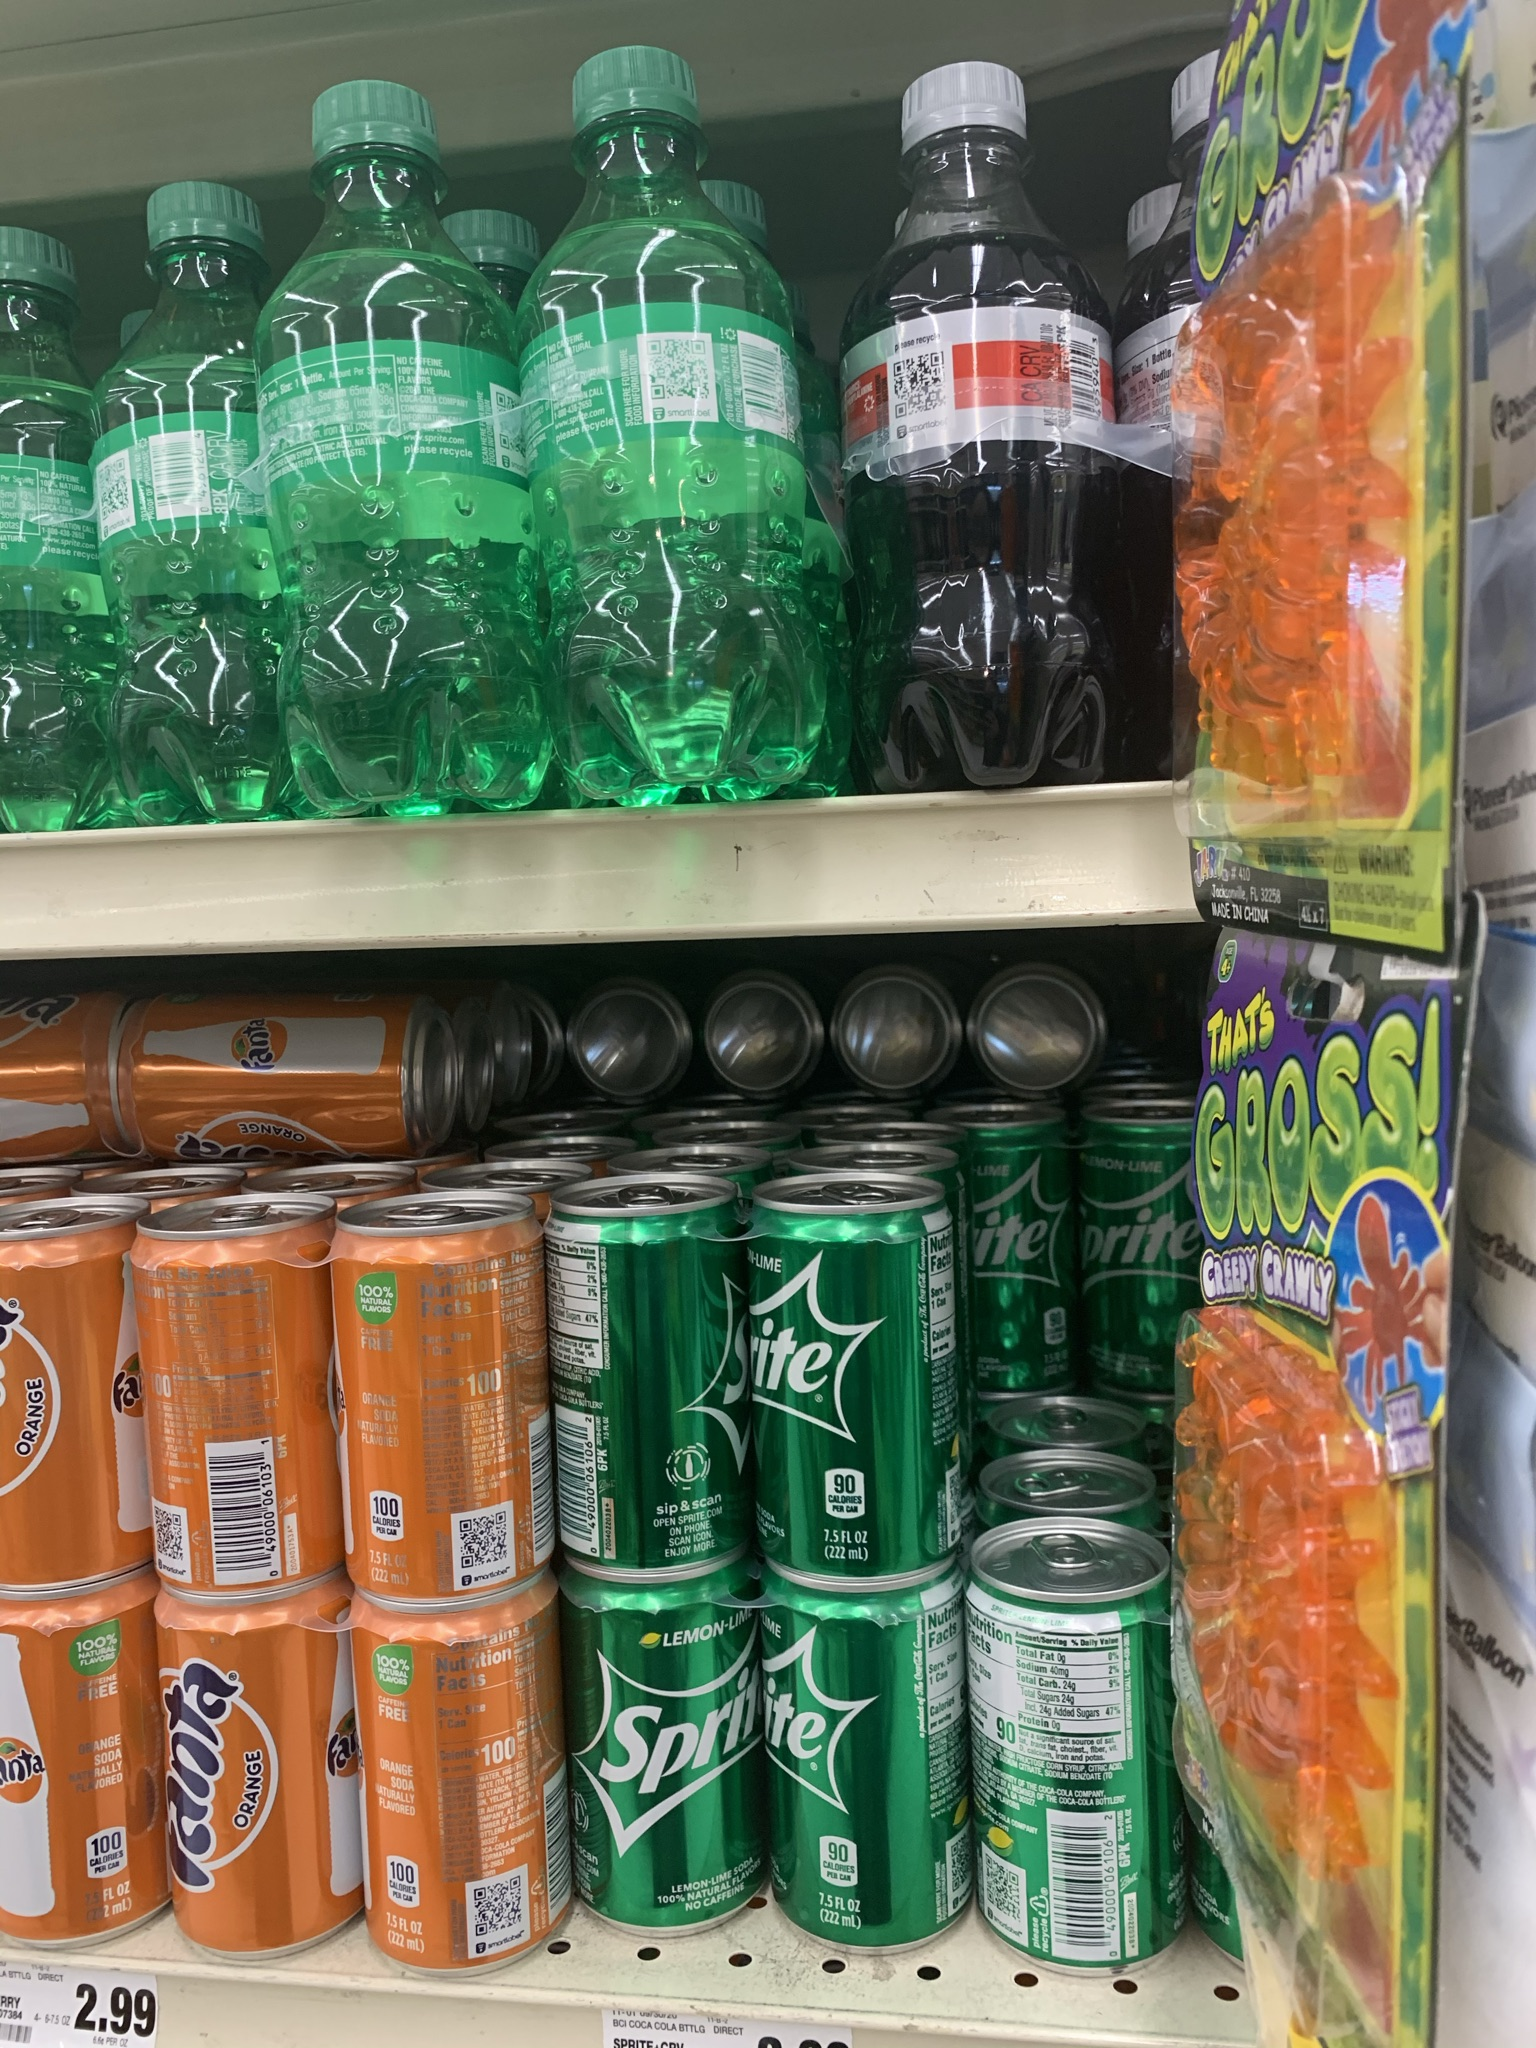coke soda: (889, 84, 1120, 769)
fanta soda: (342, 1221, 553, 1605), (127, 1226, 337, 1587), (352, 1621, 552, 1969), (160, 1609, 361, 1937), (2, 1243, 152, 1550), (6, 1625, 152, 1901)
sprite soda: (557, 74, 842, 764), (303, 106, 532, 743), (553, 1592, 774, 1956), (771, 1587, 978, 1959), (144, 210, 266, 819), (762, 1188, 958, 1564), (992, 1551, 1183, 1938), (971, 1105, 1213, 1380), (570, 1200, 744, 1566)
